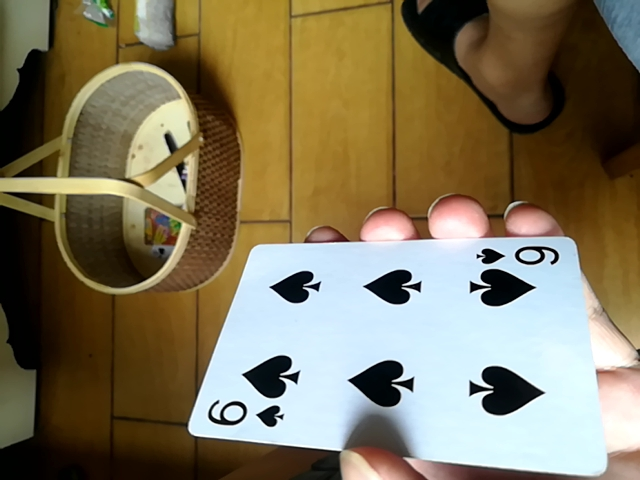ht 6: (189, 229, 606, 473)
